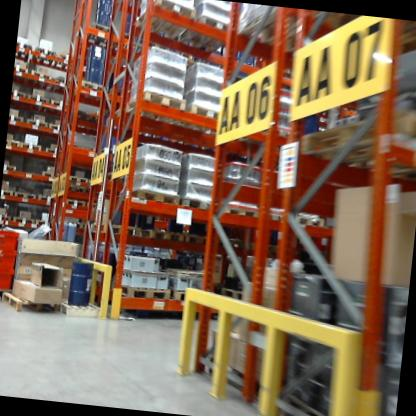pallet: (290, 90, 416, 182), (303, 11, 416, 58), (105, 81, 192, 128), (132, 0, 209, 43), (183, 8, 239, 59), (107, 270, 172, 312), (184, 99, 244, 138), (118, 180, 184, 214), (171, 275, 217, 314), (3, 290, 64, 319), (52, 295, 109, 325), (78, 214, 142, 240), (139, 220, 188, 250), (76, 18, 118, 52), (177, 194, 224, 222), (222, 199, 265, 226), (69, 76, 111, 102), (51, 47, 81, 73), (29, 45, 59, 68), (185, 226, 210, 252), (42, 143, 71, 161), (26, 94, 52, 113), (30, 68, 53, 88), (51, 74, 74, 93), (48, 95, 69, 115), (45, 121, 73, 135), (15, 41, 33, 61), (63, 183, 90, 196), (13, 189, 36, 204), (23, 115, 49, 128), (13, 212, 36, 226), (66, 171, 90, 184), (39, 169, 65, 181), (19, 139, 42, 152), (35, 191, 56, 205), (64, 196, 86, 209), (35, 215, 54, 230), (14, 64, 29, 82), (11, 89, 27, 103), (6, 137, 21, 150), (10, 113, 25, 126), (3, 163, 18, 175), (1, 187, 14, 200), (0, 212, 13, 224)
small_load_carrier: (0, 226, 23, 252), (0, 249, 16, 274), (0, 268, 16, 293)
